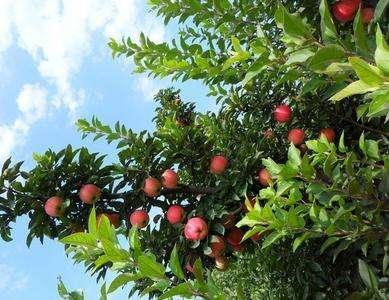apple: (331, 1, 359, 20), (184, 218, 208, 239), (206, 236, 226, 257), (44, 196, 65, 216), (79, 183, 100, 202), (144, 178, 163, 198), (129, 209, 149, 228), (167, 205, 185, 223), (161, 170, 179, 188), (210, 155, 228, 173), (273, 104, 291, 122), (287, 127, 305, 145), (227, 227, 242, 245), (321, 128, 338, 139), (259, 169, 272, 183)
